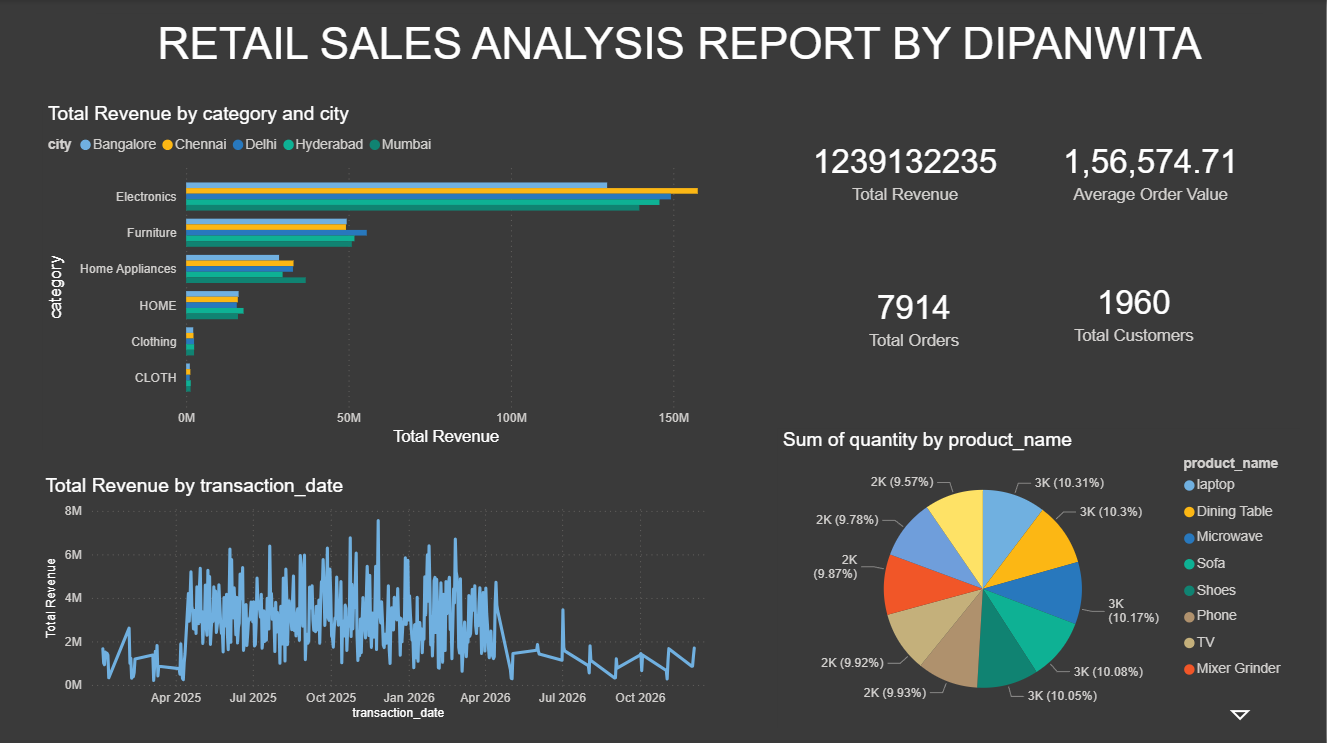

What the dashboard file says about the page in this screenshot:
{"tool":"powerbi","page":{"name":"Page 1","canvas":[1280,720],"ordinal":0},"visuals":[{"type":"textbox","box":[94.1,13.3,1125.6,62.7],"z":0},{"type":"card","fields":{"Values":["cleaned_retail_data.Total Revenue"]},"box":[767.3,98.9,214.7,130.3],"z":1000},{"type":"card","fields":{"Values":["cleaned_retail_data.Total Orders"]},"box":[801.1,238.9,164.1,132.7],"z":2000},{"type":"card","fields":{"Values":["cleaned_retail_data.Average Order Value"]},"box":[1003.8,98.9,216,130.3],"z":3000},{"type":"clusteredBarChart","fields":{"Series":["cleaned_retail_data.city"],"Category":["cleaned_retail_data.category"],"Y":["cleaned_retail_data.Total Revenue"]},"box":[42.2,98.9,661.1,335.4],"z":4000},{"type":"lineChart","fields":{"Category":["cleaned_retail_data.transaction_date"],"Y":["cleaned_retail_data.Total Revenue"]},"box":[40,458.6,661.4,241.4],"z":5000},{"type":"pieChart","fields":{"Category":["cleaned_retail_data.product_name"],"Y":["Sum(cleaned_retail_data.quantity)"]},"box":[751.4,414.3,504.3,288.6],"z":6000},{"type":"card","fields":{"Values":["cleaned_retail_data.Total Customers"]},"box":[1003.8,229.2,183.4,142.4],"z":7000}]}

Visuals, with their boxes in screenshot pixels (x1, y1, x2, y2), scaled from the page's 1280x720 canvas onto the 1327x743 screenshot:
textbox: box=[98, 14, 1264, 78]
card - cleaned_retail_data.Total Revenue: box=[795, 102, 1018, 237]
card - cleaned_retail_data.Total Orders: box=[831, 247, 1001, 383]
card - cleaned_retail_data.Average Order Value: box=[1041, 102, 1265, 237]
clusteredBarChart - cleaned_retail_data.city x cleaned_retail_data.category: box=[44, 102, 729, 448]
lineChart - cleaned_retail_data.transaction_date x cleaned_retail_data.Total Revenue: box=[41, 473, 727, 722]
pieChart - cleaned_retail_data.product_name x Sum(cleaned_retail_data.quantity): box=[779, 428, 1302, 725]
card - cleaned_retail_data.Total Customers: box=[1041, 237, 1231, 383]
